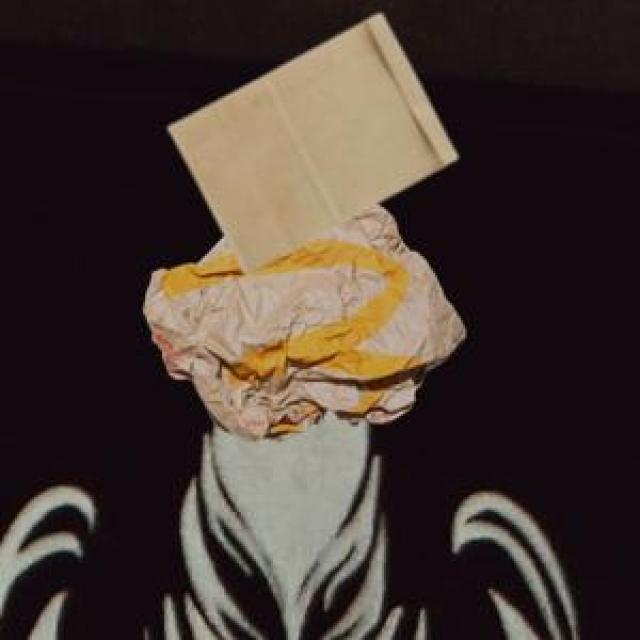paper: (139, 201, 461, 437), (164, 11, 452, 269)
